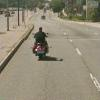Motorcycle: (29, 22, 54, 65)
